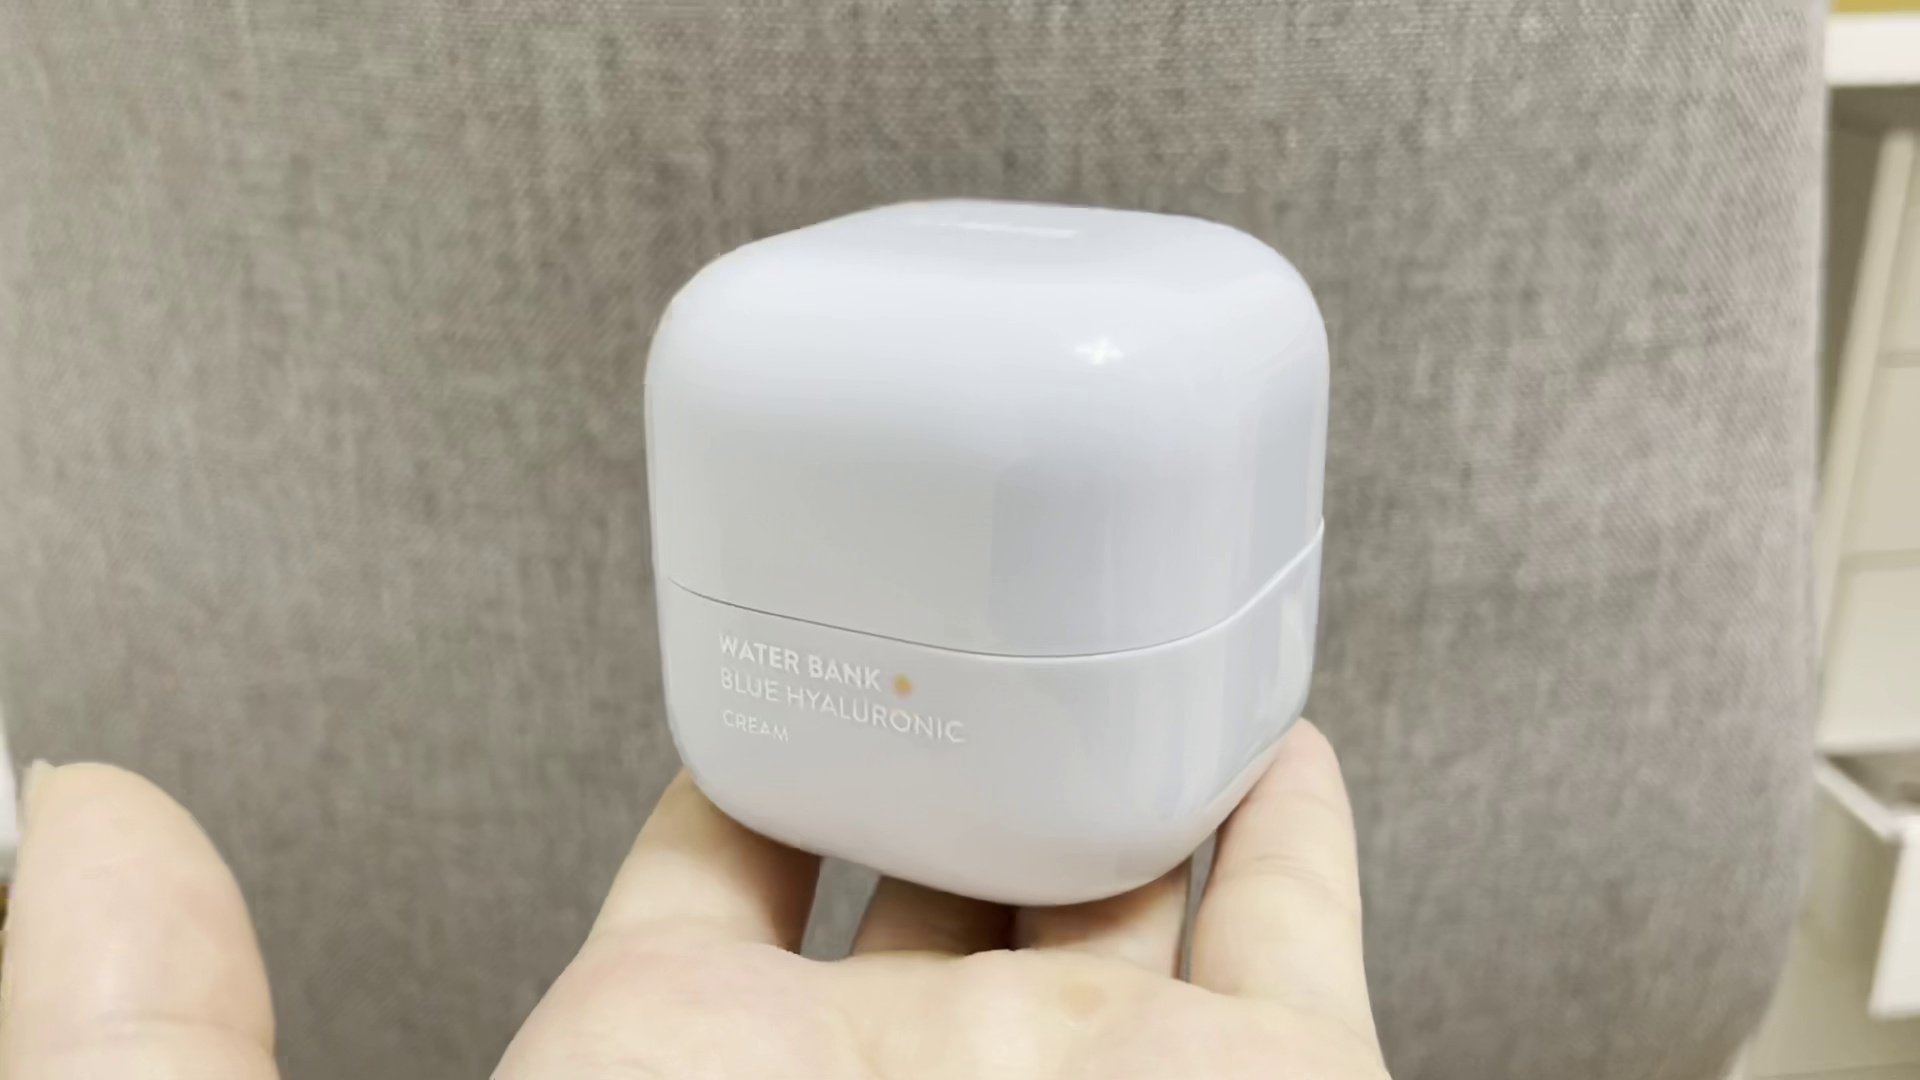cream: (650, 202, 1323, 906)
